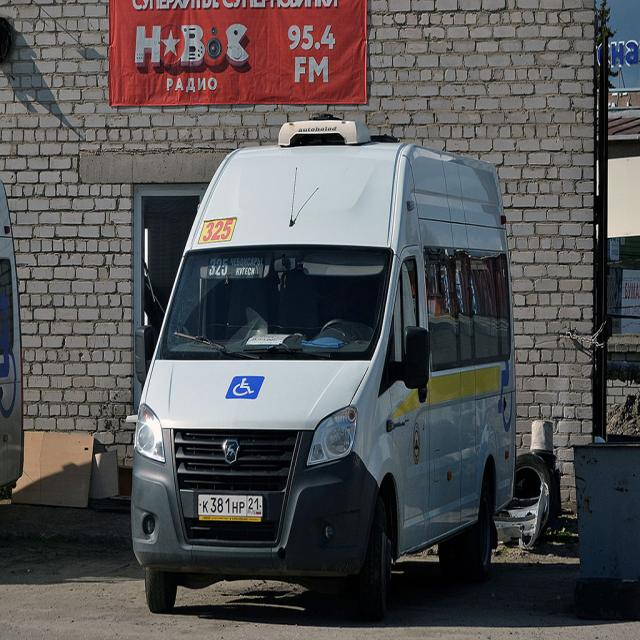number-of-bus: (201, 219, 235, 242), (207, 254, 232, 280)
